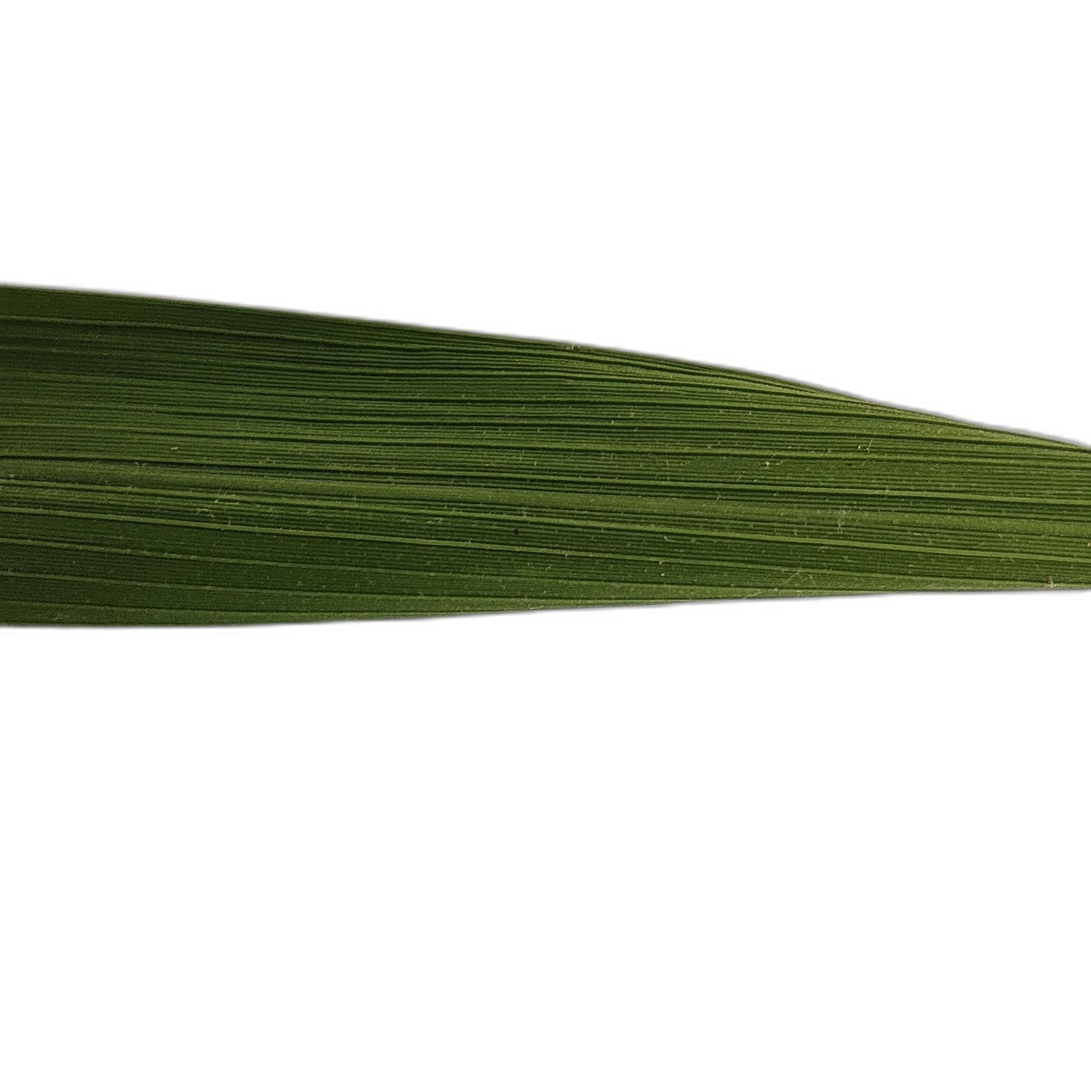Healthy: (2, 291, 1090, 622)
